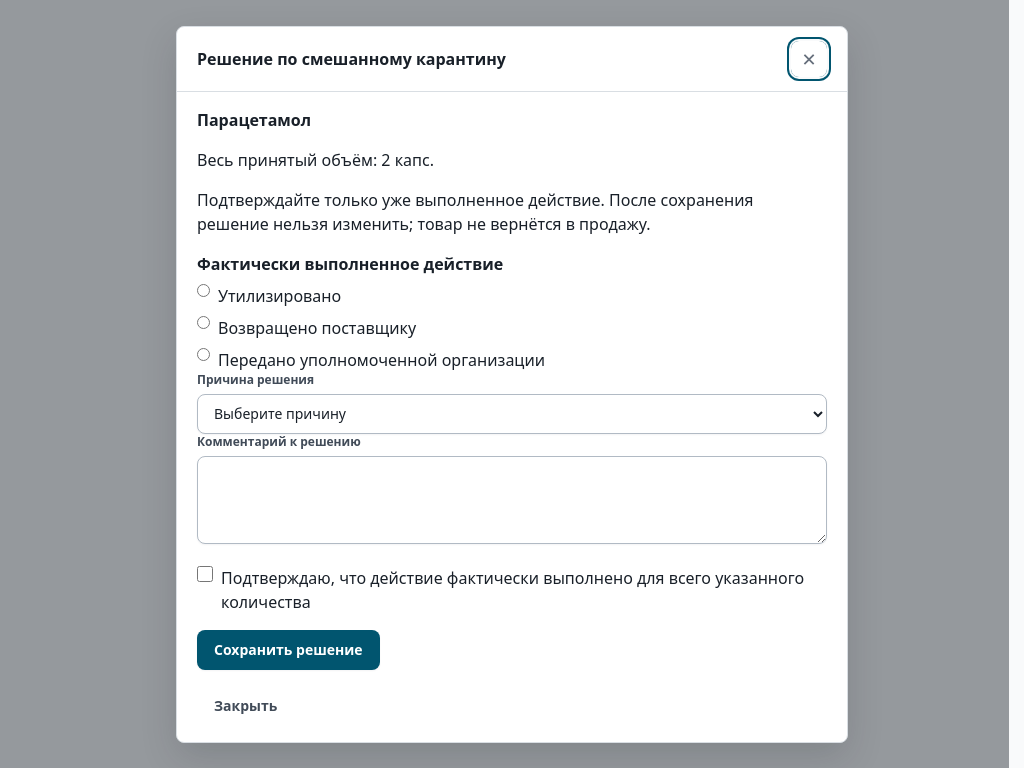
Test: mixed disposition confirmation form › uses physical whole-unit snapshot while the request contains only target identity
Expected: the text "Весь принятый объём: 2 капс." is shown, [197,148,434,170]
Click the radio button labelled "Утилизировано" at (204, 290), box [197,284,210,296]
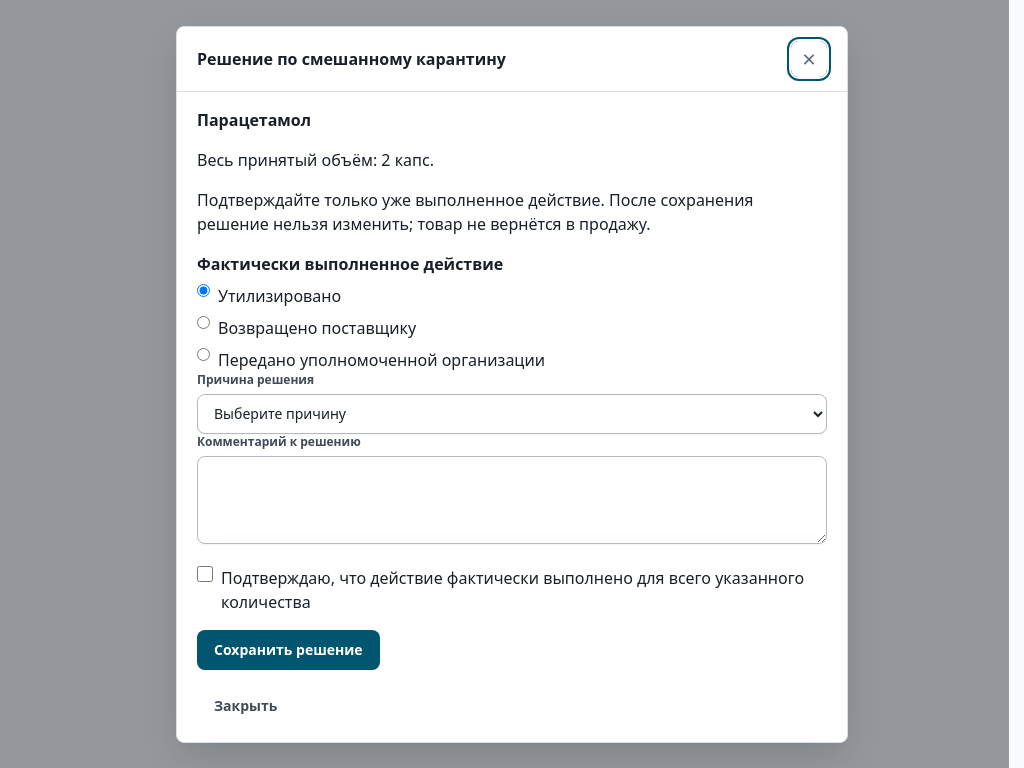
Select "Повреждение" in the dropdown labelled "Причина решения" at (512, 414), box [197,394,827,434]
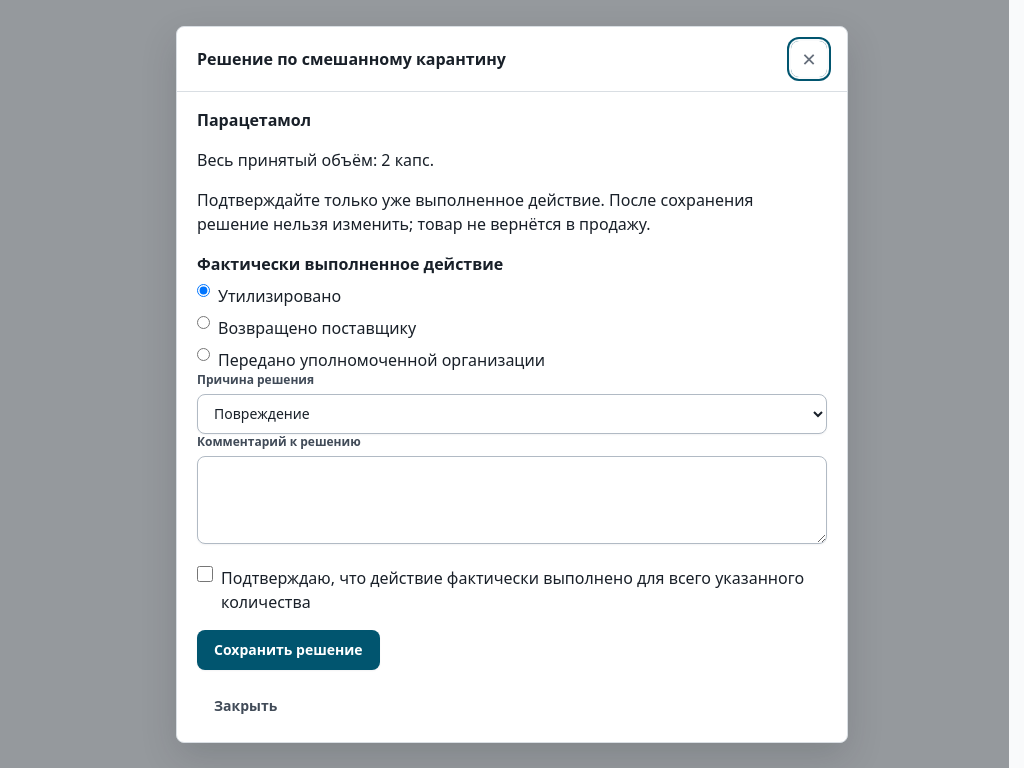
Type "  Фактически выполнено  " into the text box labelled "Комментарий к решению" at (512, 500), box [197,456,827,544]
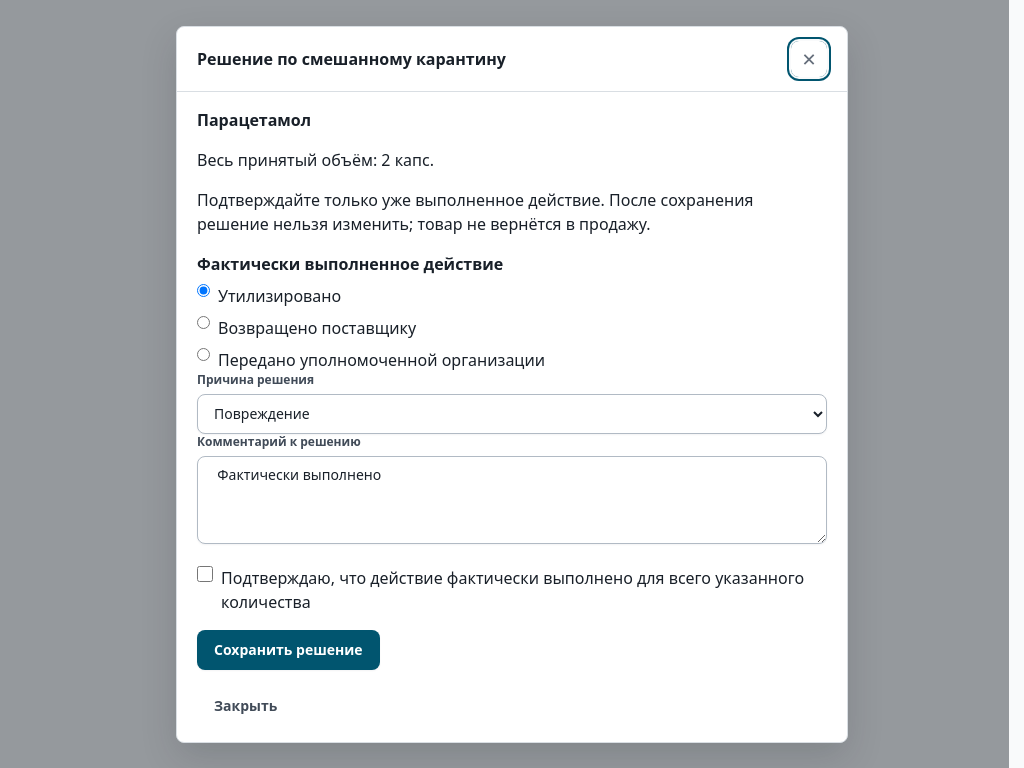
Click the checkbox labelled "Подтверждаю, что действие" at (205, 574), box [197,566,213,582]
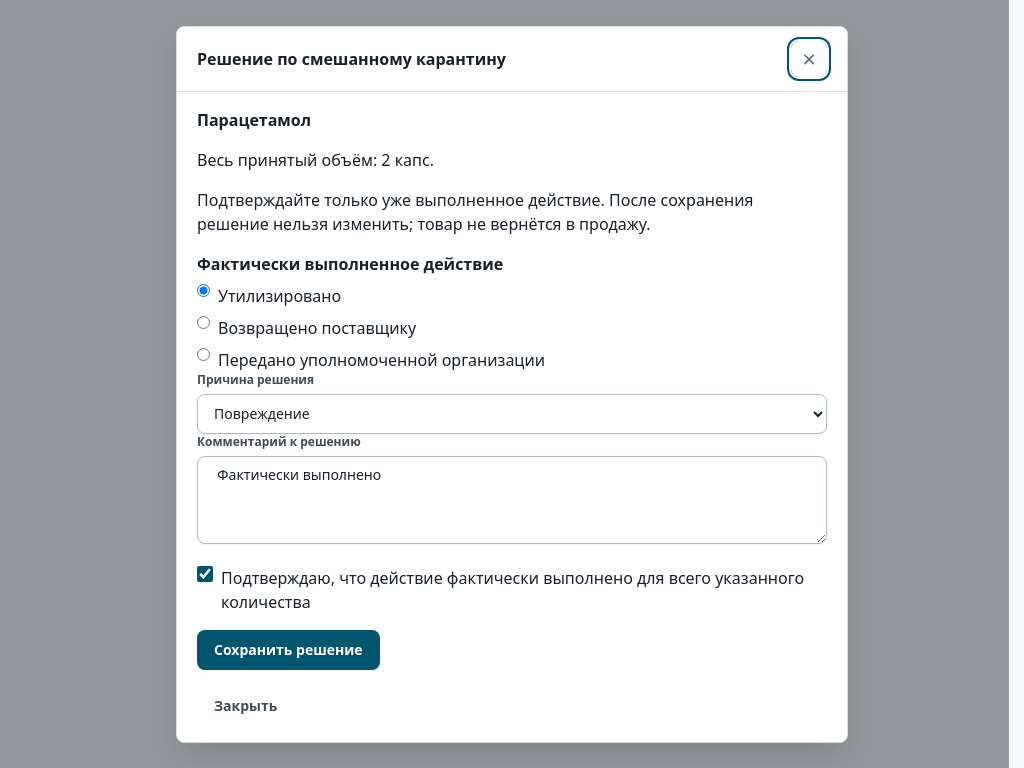
Click the button "Сохранить решение" at (288, 650), box [197,630,380,670]
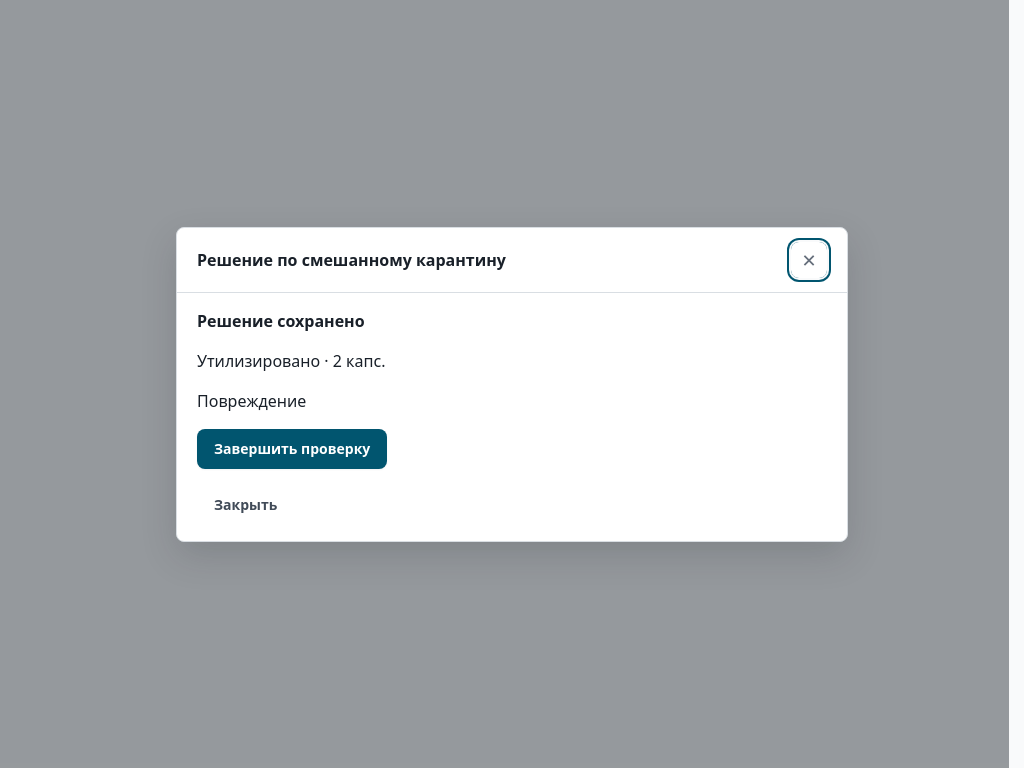
Result: the text "Решение сохранено" is shown at [197,310,365,332]
